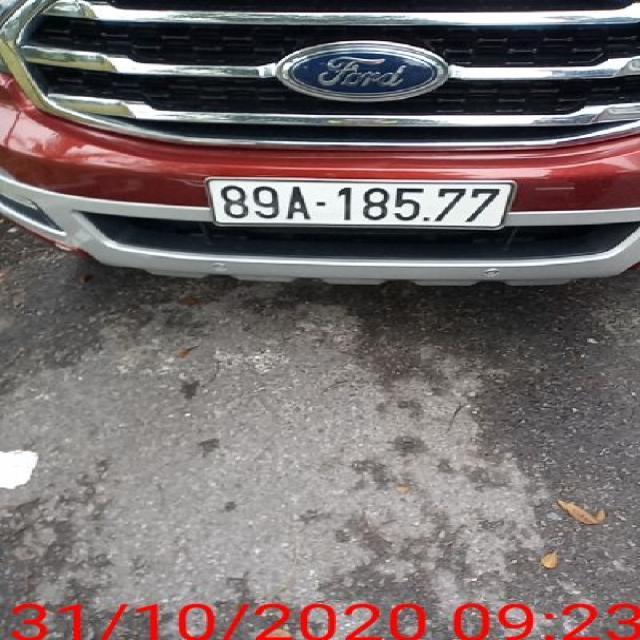bien_so_oto: (202, 176, 519, 232)
